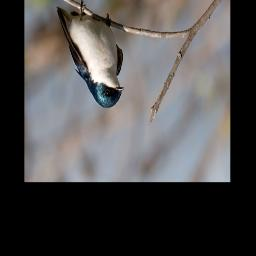Swallow: (55, 0, 123, 109)
